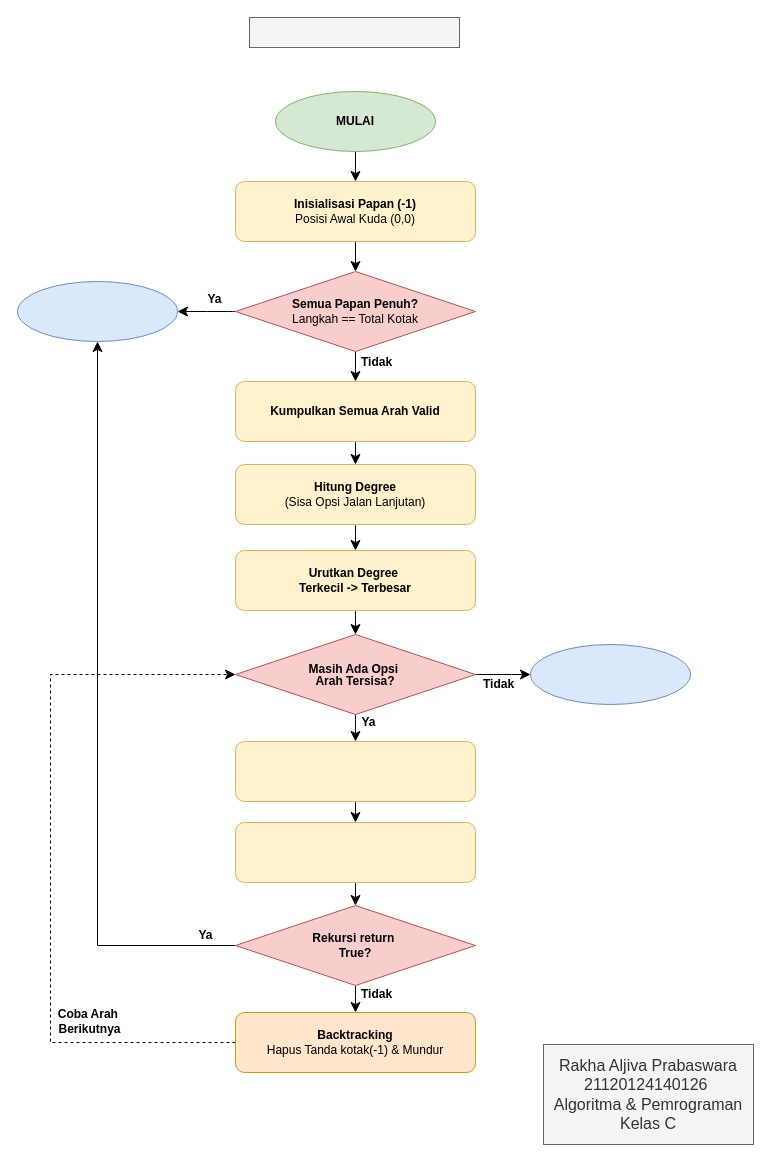
Image size: 771x1162. Some labels were removed from this diagram. The shapes that lost their labels are listed below. From the top down, each one's centre as x and y in pixels, then its label:
At (x=354, y=32): "Knight's Tour Warnsdorff's".
At (x=97, y=311): "SELESAI Solusi Ditemukan".
At (x=610, y=674): "SELESAI Solusi Tidak Ditemukan".
At (x=355, y=771): "Tandai Kotak dari Degree Terkecil".
At (x=355, y=852): "Panggil Rekursi (Maju ke Langkah Berikutnya)".
